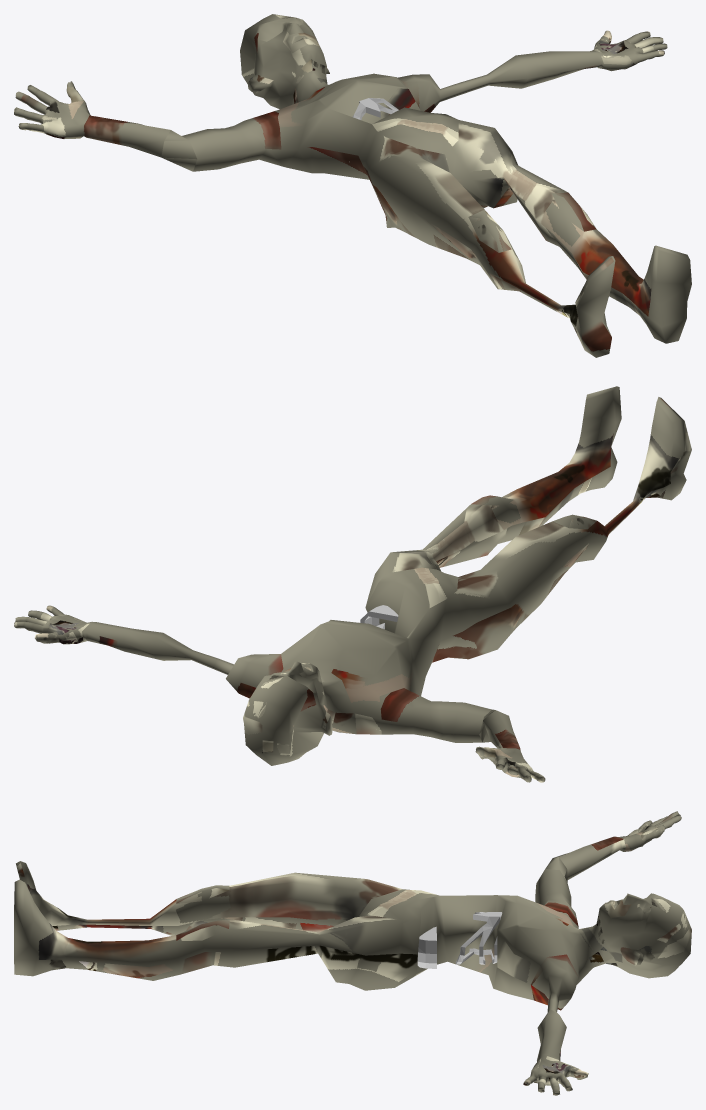
File: died1.obj
The picture shows the model from 3 angles, top to bottom: view 1: azimuth 30°, elevation 25°; view 2: azimuth 150°, elevation 25°; view 3: azimuth 270°, elevation 25°; orthographic projection. The views are drawn at different scales.
Visible parts, largest first — view 1: Main__Hips_; view 2: Main__Hips_; view 3: Main__Hips_.
Boxes of the visible parts, x1,y1,x2,y2 form: Main__Hips_: [14, 14, 691, 357]; Main__Hips_: [14, 386, 691, 782]; Main__Hips_: [14, 811, 691, 1095].
Size of the model in its own units: 1.76 by 0.3432 by 1.97.
